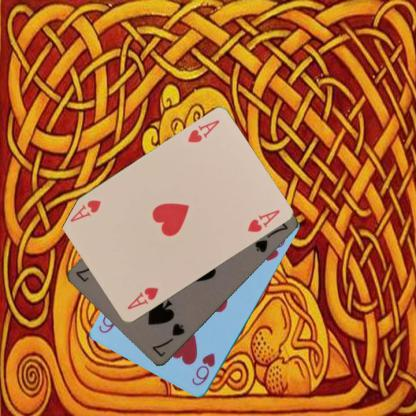6h: (189, 350, 217, 387)
7s: (149, 321, 186, 358)
Ah: (124, 284, 160, 312), (185, 118, 221, 144)
